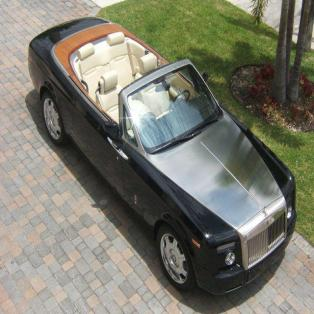Auto: (26, 16, 295, 297)
